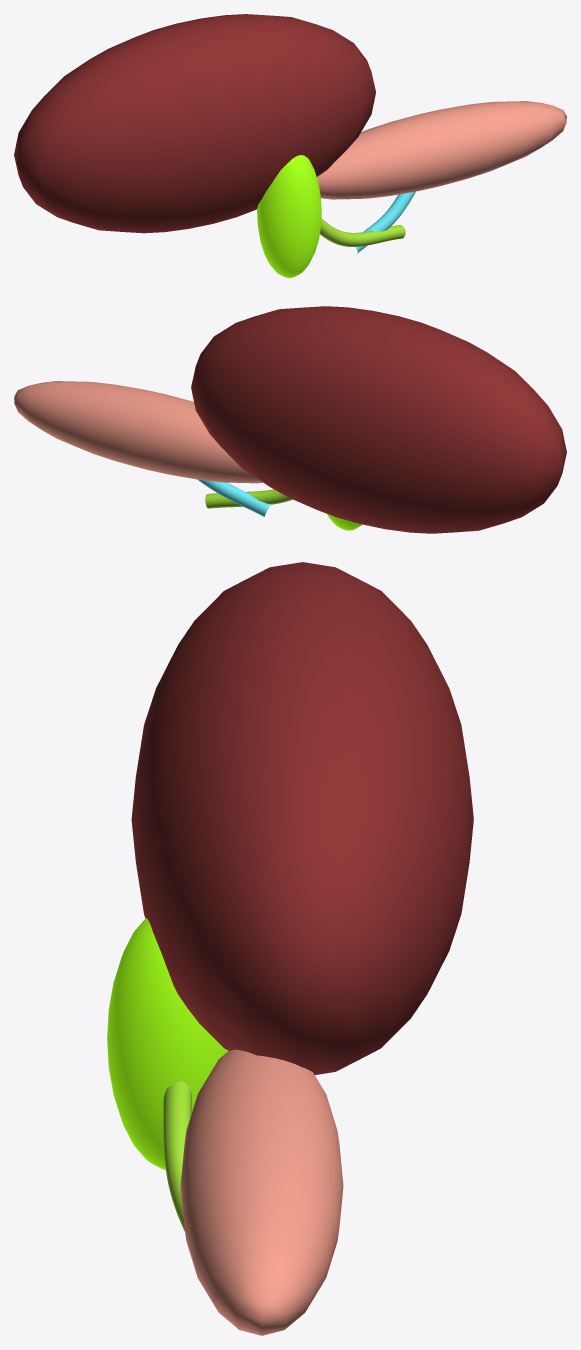
Rendered from helper-organs-chamber.glb.
3 views of the same model, one above another, from view 1: azimuth 30°, elevation 25°; view 2: azimuth 150°, elevation 25°; view 3: azimuth 270°, elevation 25° (orthographic). The views are drawn at different scales.
Parts seen in each view (by area): view 1: liver, pancreas, gallbladder, bile-flow, enzyme-flow; view 2: liver, pancreas, enzyme-flow, bile-flow; view 3: liver, pancreas, gallbladder, bile-flow.
Boxes of the visible parts, <box> form: liver: <box>14,14,375,233</box>; pancreas: <box>317,101,566,199</box>; gallbladder: <box>257,155,321,277</box>; bile-flow: <box>320,218,405,246</box>; enzyme-flow: <box>355,191,415,253</box>; liver: <box>191,306,566,533</box>; pancreas: <box>14,381,262,483</box>; enzyme-flow: <box>197,479,270,516</box>; bile-flow: <box>205,489,292,508</box>; liver: <box>131,562,473,1074</box>; pancreas: <box>180,1049,343,1335</box>; gallbladder: <box>107,918,228,1169</box>; bile-flow: <box>163,1081,191,1231</box>.
Bounding box in the file's own units: 3.05 × 1.3 × 0.9.
